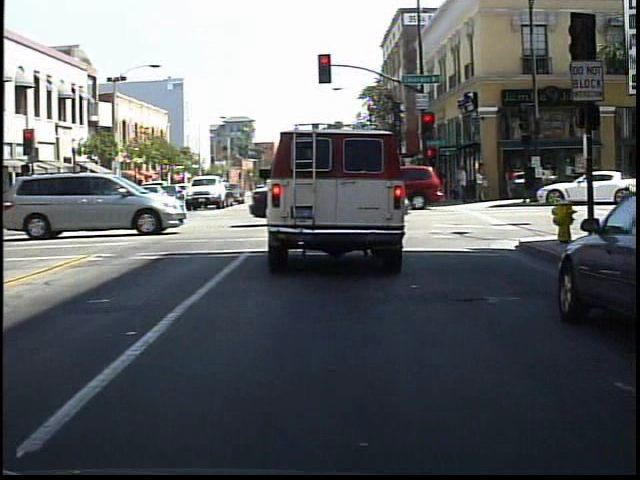person: (518, 156, 539, 206), (504, 160, 517, 199)
